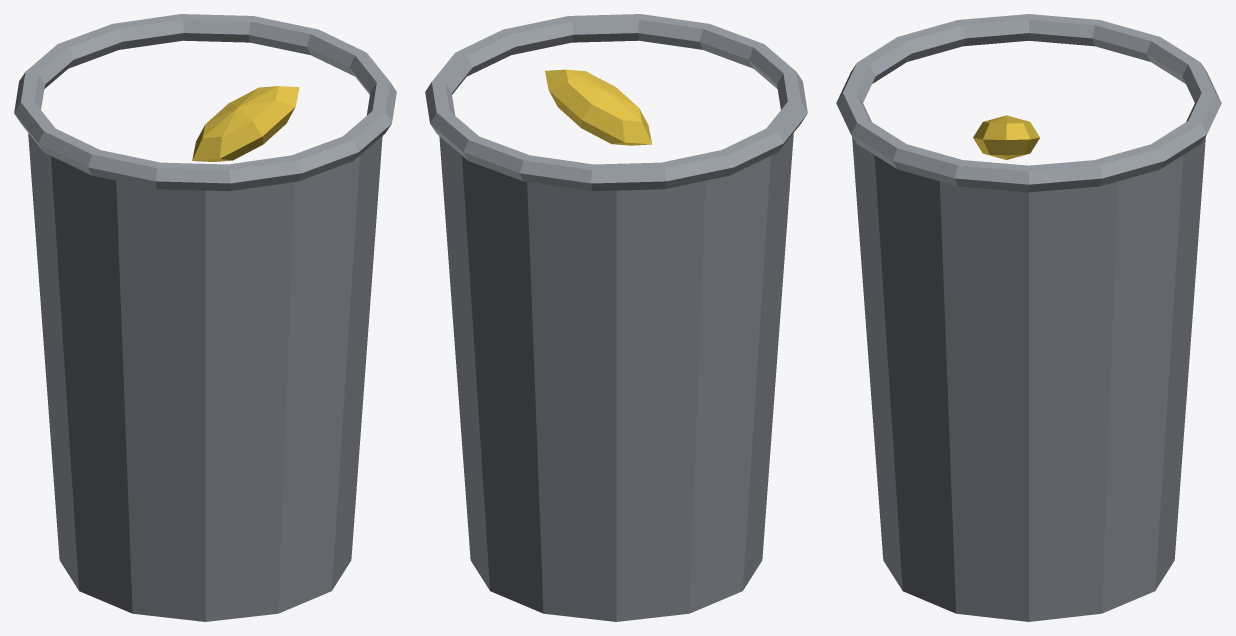
The model's file is trash_bin.glb.
3 renders of one model, left to right at view 1: azimuth 30°, elevation 25°; view 2: azimuth 150°, elevation 25°; view 3: azimuth 270°, elevation 25°, orthographic.
Visible parts, largest first — view 1: bin_bin_tin, bin_bin_rim, peel_banana_peel; view 2: bin_bin_tin, bin_bin_rim, peel_banana_peel; view 3: bin_bin_tin, bin_bin_rim, peel_banana_peel.
Part boxes in pixels (x1,y1,x2,y2): bin_bin_tin: [28, 133, 382, 621]; bin_bin_rim: [14, 14, 396, 191]; peel_banana_peel: [192, 86, 299, 161]; bin_bin_tin: [439, 133, 793, 621]; bin_bin_rim: [425, 14, 807, 191]; peel_banana_peel: [545, 69, 652, 145]; bin_bin_tin: [852, 136, 1205, 621]; bin_bin_rim: [836, 14, 1221, 192]; peel_banana_peel: [973, 115, 1039, 159].
Bounding box in the file's own units: 0.344 × 0.4604 × 0.344.
